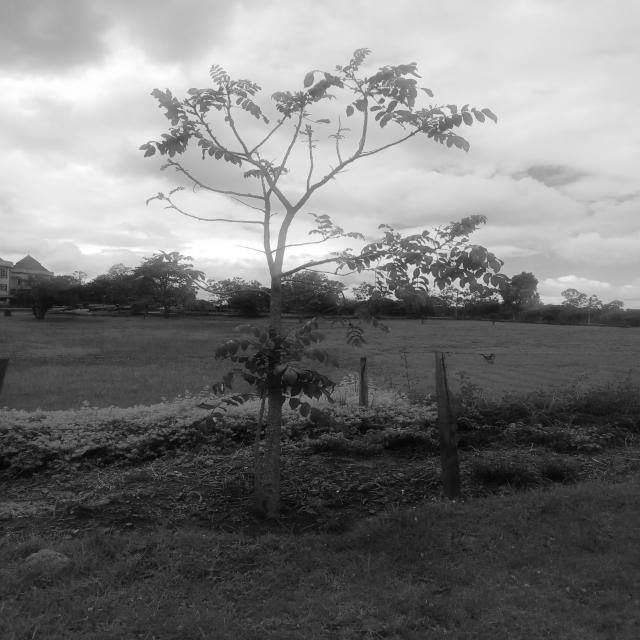Polyscias Kikuyensis: (115, 24, 515, 537)
